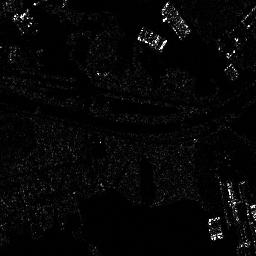ship: (157, 1, 191, 40), (135, 25, 168, 54), (206, 217, 224, 241)
